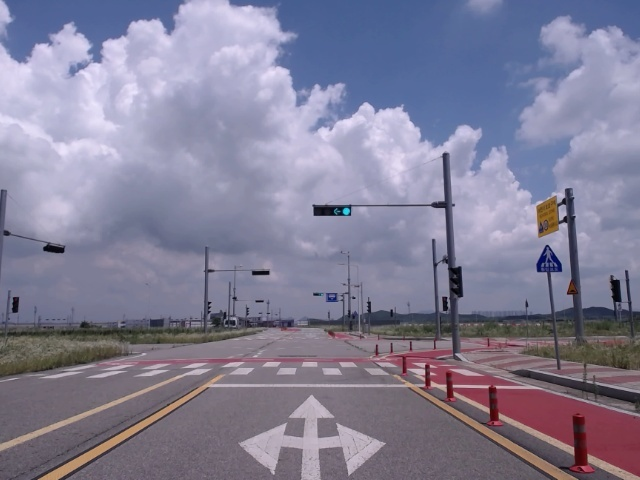all_green_4: (313, 204, 350, 217)
